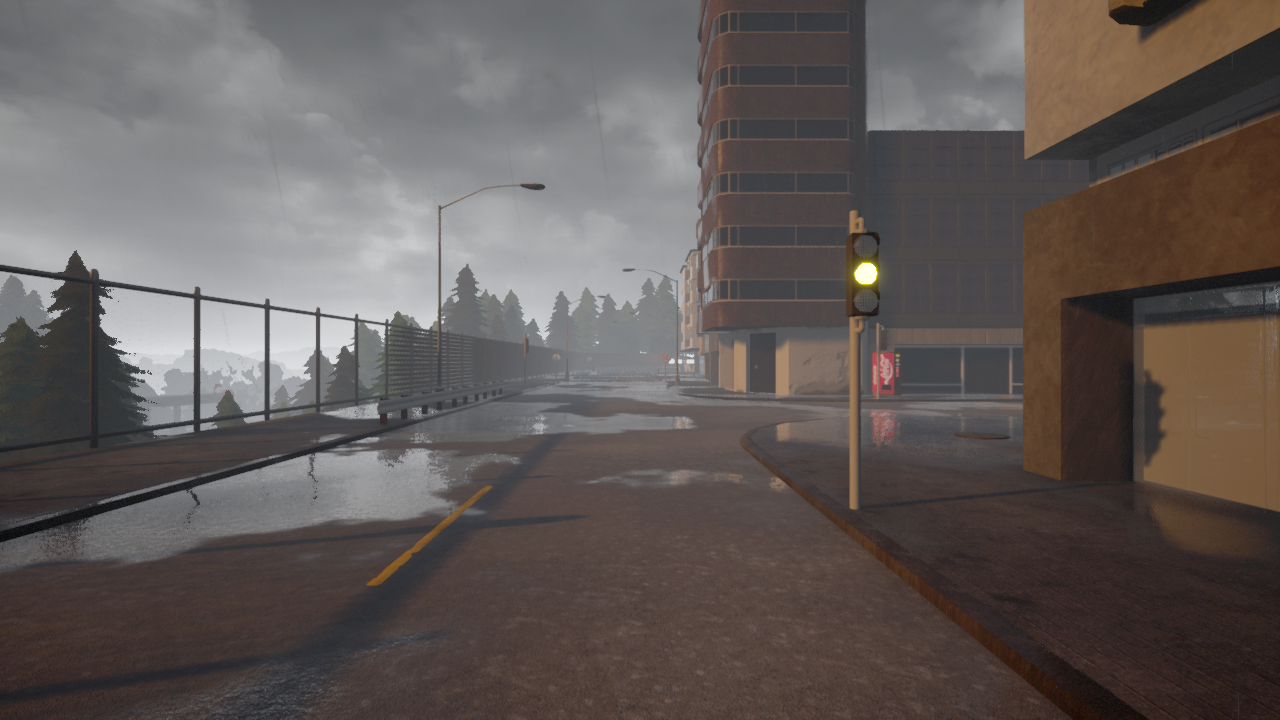yellow: (844, 230, 883, 318)
